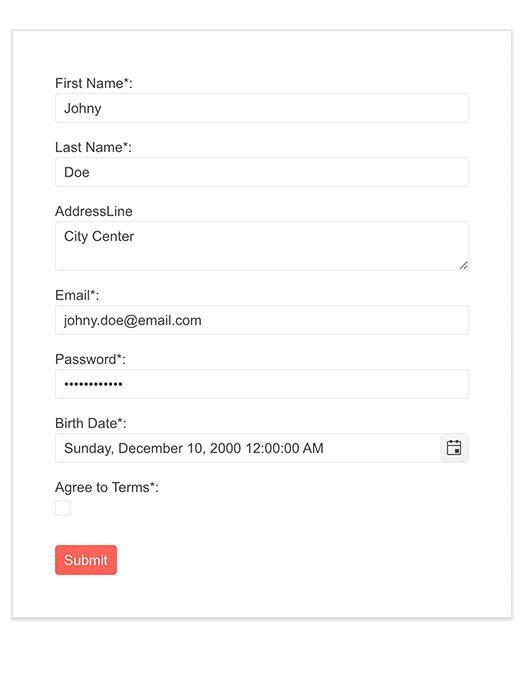button: (57, 546, 117, 575)
checkbox: (55, 500, 72, 519)
icon: (447, 439, 467, 459)
input: (57, 158, 471, 189), (55, 95, 469, 124), (56, 308, 469, 335), (58, 372, 469, 399), (57, 437, 443, 463)
label: (55, 480, 166, 497), (56, 413, 131, 433), (56, 202, 137, 220), (57, 138, 134, 155), (52, 281, 102, 307), (56, 74, 137, 90), (57, 352, 133, 369)
